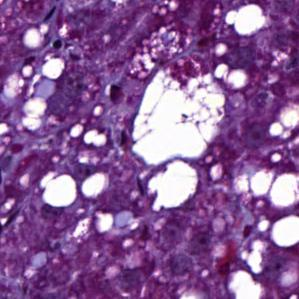ballooning: (130, 56, 226, 168)
